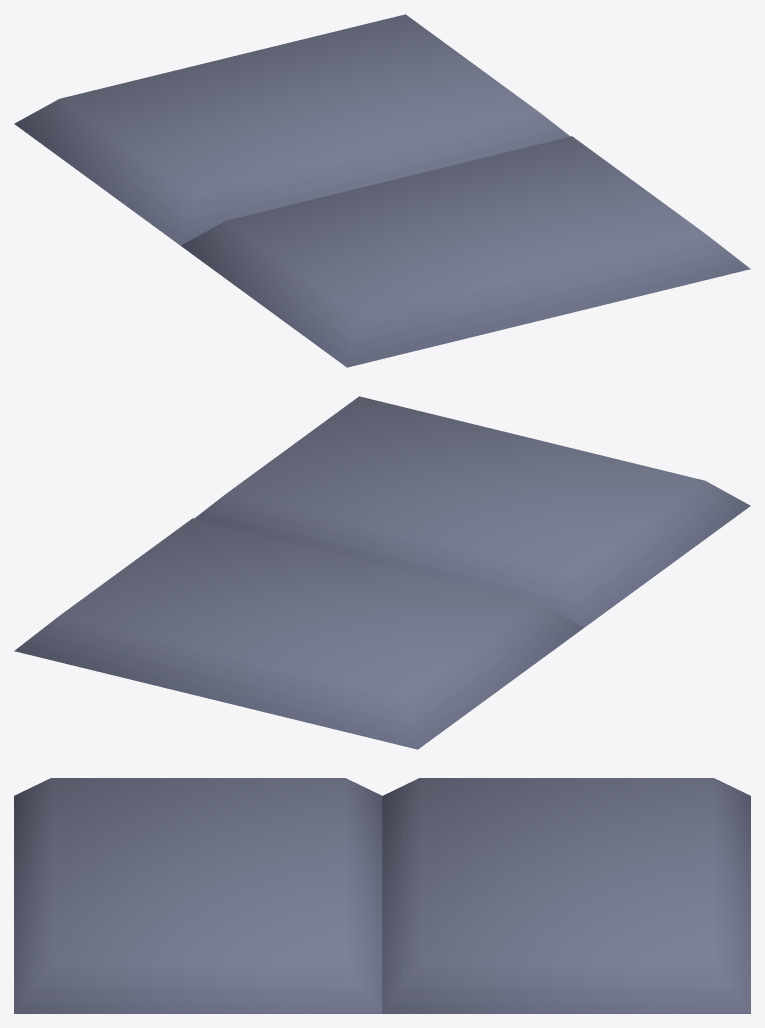
Rendered from path-stones-short.glb.
3 renders of one model, top to bottom at view 1: azimuth 30°, elevation 25°; view 2: azimuth 150°, elevation 25°; view 3: azimuth 270°, elevation 25°, orthographic. The views are drawn at different scales.
Parts seen in each view (by area): view 1: path-stones-short; view 2: path-stones-short; view 3: path-stones-short.
Part boxes in pixels (bbox=[...]): path-stones-short: bbox=[14, 14, 750, 367]; path-stones-short: bbox=[14, 396, 750, 749]; path-stones-short: bbox=[14, 778, 750, 1013].
Size of the model in its own units: 0.14 by 0.01 by 0.2.
1 material, 1 textured.
